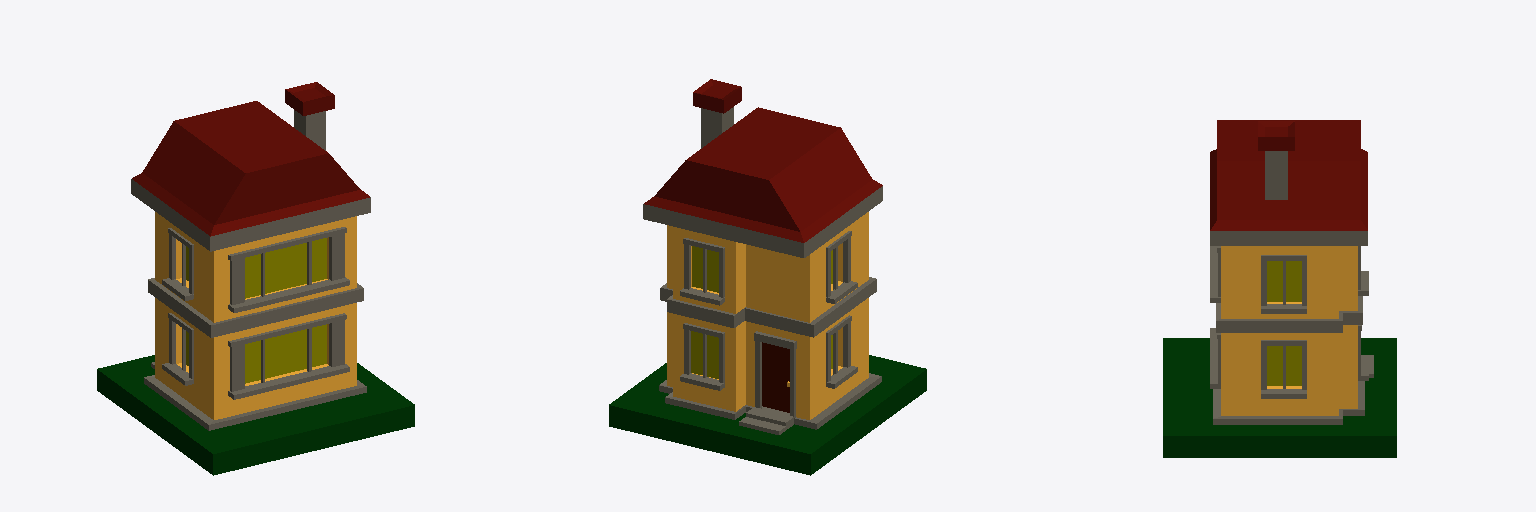
File: BlockHouse.obj
3 renders of one model, left to right at view 1: azimuth 30°, elevation 25°; view 2: azimuth 150°, elevation 25°; view 3: azimuth 270°, elevation 25°, orthographic.
Visible parts, largest first — view 1: Cube, Cube.006, Cube.001, Cube.012, Cube.011, Cube.007, Cube.008, Cube.009, Cube.005; view 2: Cube, Cube.006, Cube.001, Cube.004, Cube.007, Cube.002, Cube.003, Cube.009, Cube.008; view 3: Cube, Cube.006, Cube.001, Cube.007, Cube.009, Cube.008, Cube.012, Cube.011.
Boxes of the visible parts, box(x1,y1,x2,y2) form: Cube: box(144, 212, 366, 430); Cube.006: box(131, 101, 370, 251); Cube.001: box(97, 355, 414, 475); Cube.012: box(228, 313, 349, 399); Cube.011: box(228, 227, 349, 312); Cube.007: box(285, 82, 334, 150); Cube.008: box(162, 228, 193, 300); Cube.009: box(162, 313, 193, 385); Cube.005: box(261, 241, 311, 382); Cube: box(659, 212, 881, 429); Cube.006: box(643, 107, 882, 257); Cube.001: box(609, 355, 926, 475); Cube.004: box(739, 331, 796, 434); Cube.007: box(693, 79, 741, 148); Cube.002: box(680, 323, 724, 390); Cube.003: box(680, 238, 724, 305); Cube.009: box(826, 315, 857, 388); Cube.008: box(826, 231, 857, 303); Cube: box(1213, 246, 1364, 424); Cube.006: box(1210, 120, 1367, 245); Cube.001: box(1163, 338, 1396, 457); Cube.007: box(1258, 121, 1294, 199); Cube.009: box(1261, 340, 1306, 398); Cube.008: box(1261, 255, 1306, 313); Cube.012: box(1210, 328, 1220, 388); Cube.011: box(1210, 246, 1220, 302).
Bounding box in the file's own units: 19.78 × 28.51 × 19.78.